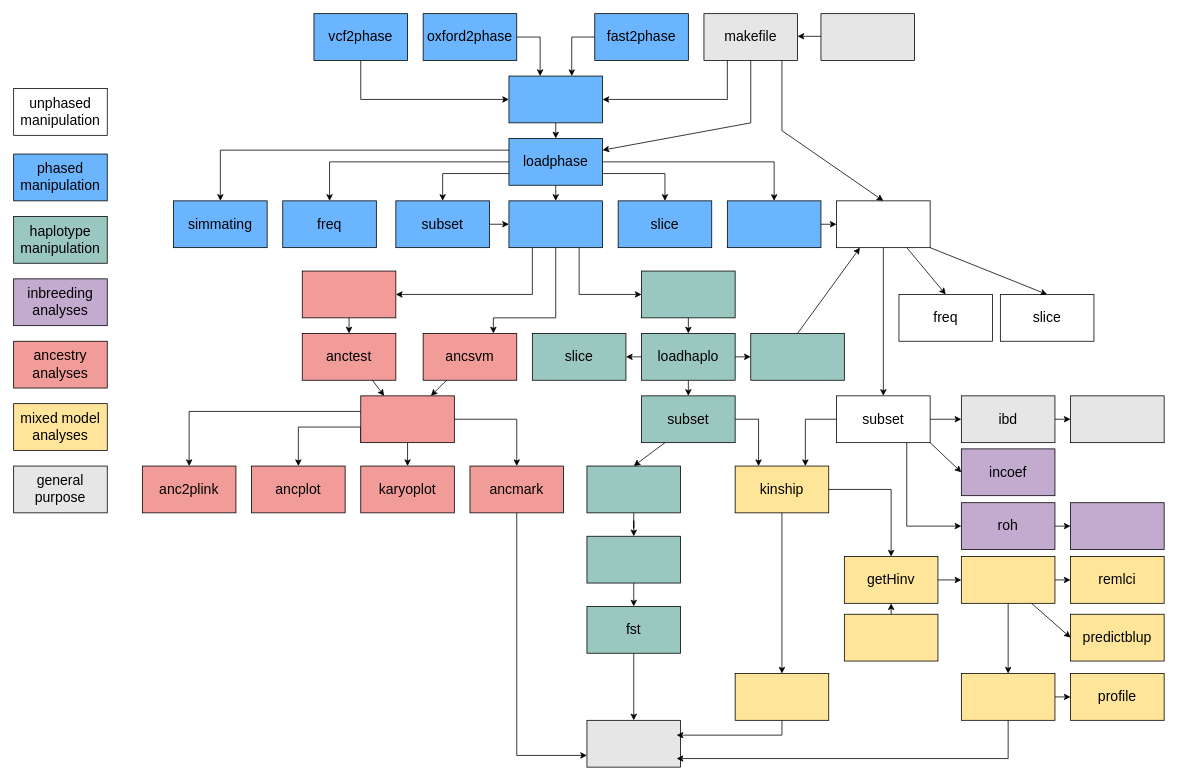
This 1178x781 diagram has some shape labels left out. The centre of each missing label's shape, as x and y in pixels:
"ancsmooth" goes at (407,419).
"anctrain" goes at (348,294).
"assoc" goes at (781,696).
"blockgen" goes at (555,224).
"blockstats" goes at (633,559).
"compress" goes at (555,99).
"exfiles" goes at (867,36).
"froh" goes at (1117,526).
"hap2plink" goes at (797,356).
"haplotyping" goes at (688,294).
"hapstats" goes at (633,489).
"lmm" goes at (1008,579).
"loadplink" goes at (883,224).
"manhattan" goes at (633,743).
"pedcheck" goes at (891,637).
"phase2plink" goes at (774,224).
"relfind" goes at (1117,419).
"varblup" goes at (1008,696).
